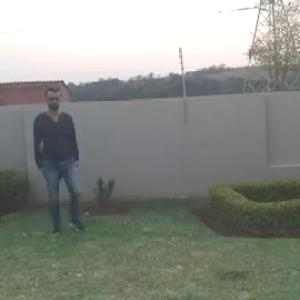follow: (32, 84, 82, 238)
